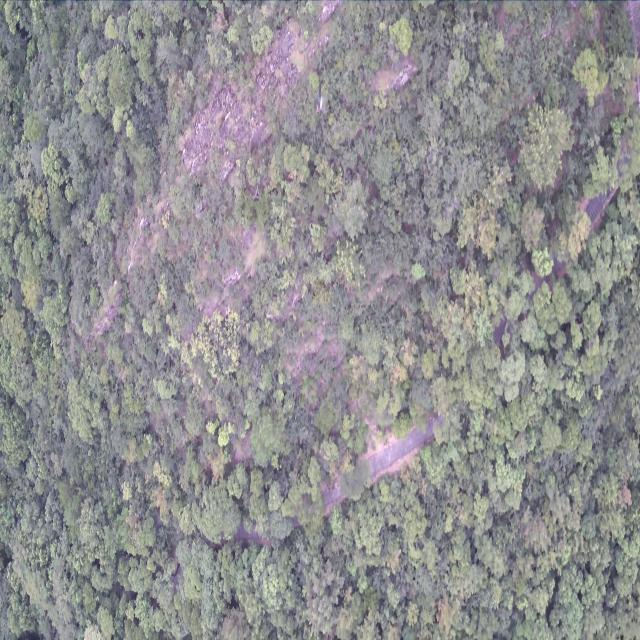drone: (316, 92, 327, 116)
